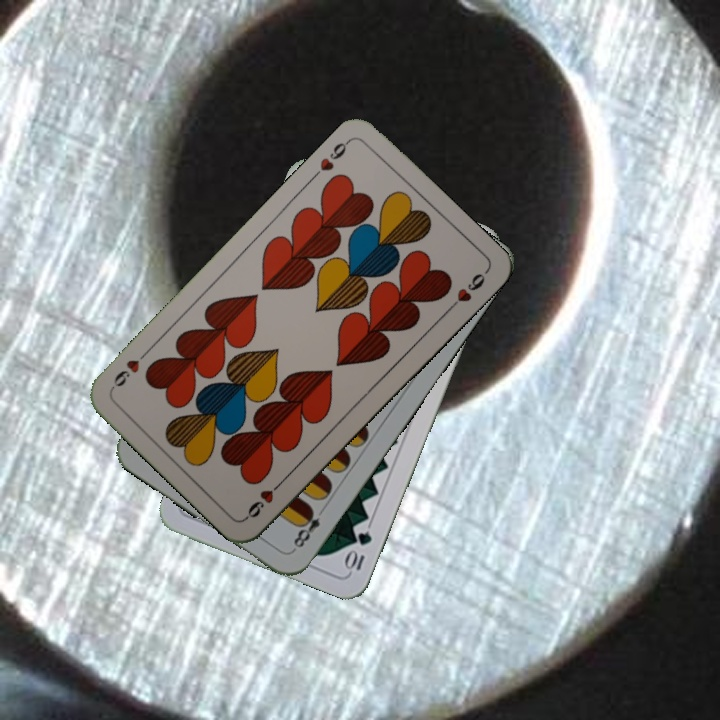E8: (288, 503, 323, 554)
G10: (342, 527, 375, 573)
H9: (241, 475, 287, 522), (308, 135, 353, 182)
